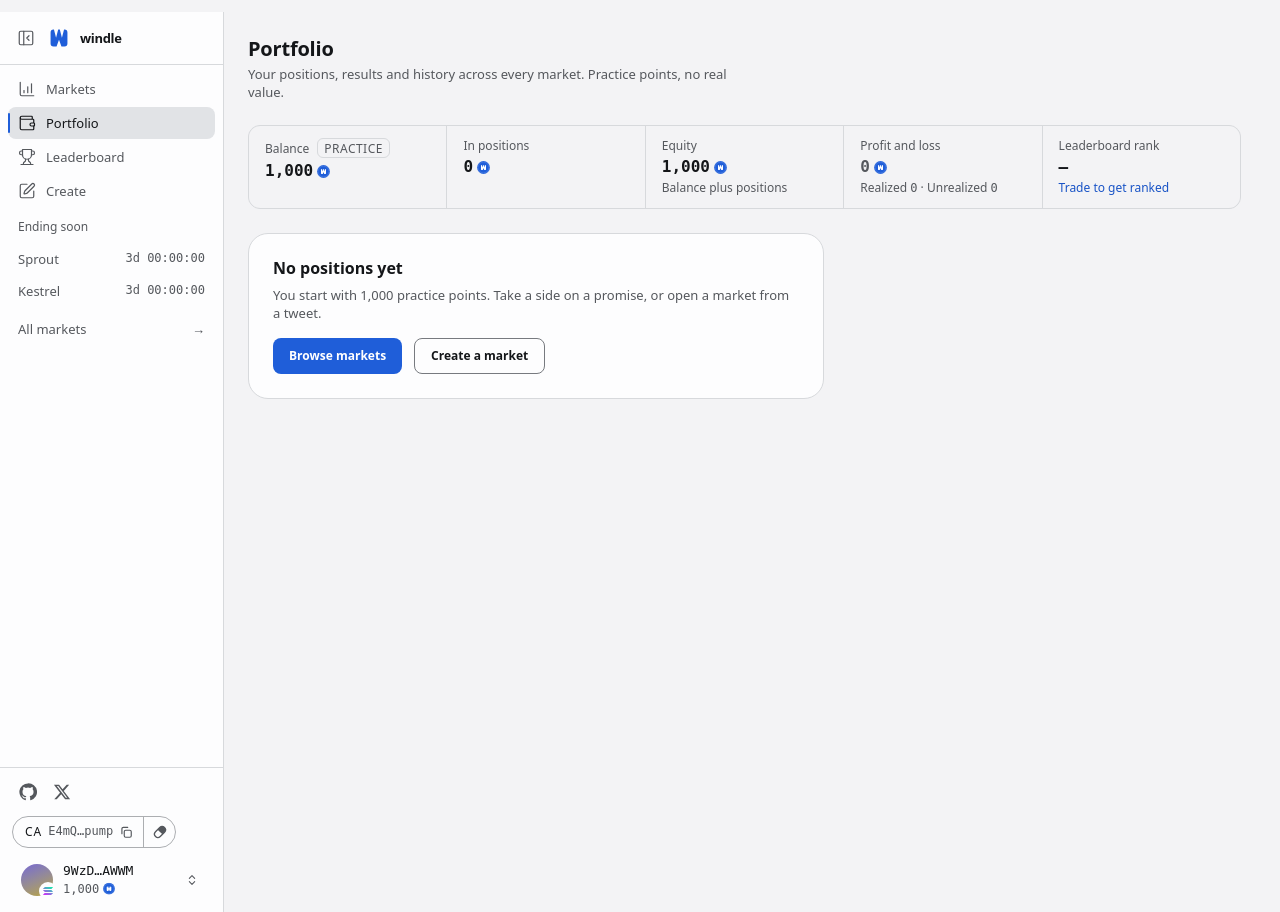
Test: shell and pages › navigates between Portfolio, Create and Markets (aria-current follows)
This screenshot has width=1280, height=912.
expect the heading "Portfolio" is shown: met, box [248, 35, 334, 62]
What coordinates should you click on to do the following:
click the link "Create"
I would click on:
 (52, 191)
Its box is [18, 182, 86, 200].
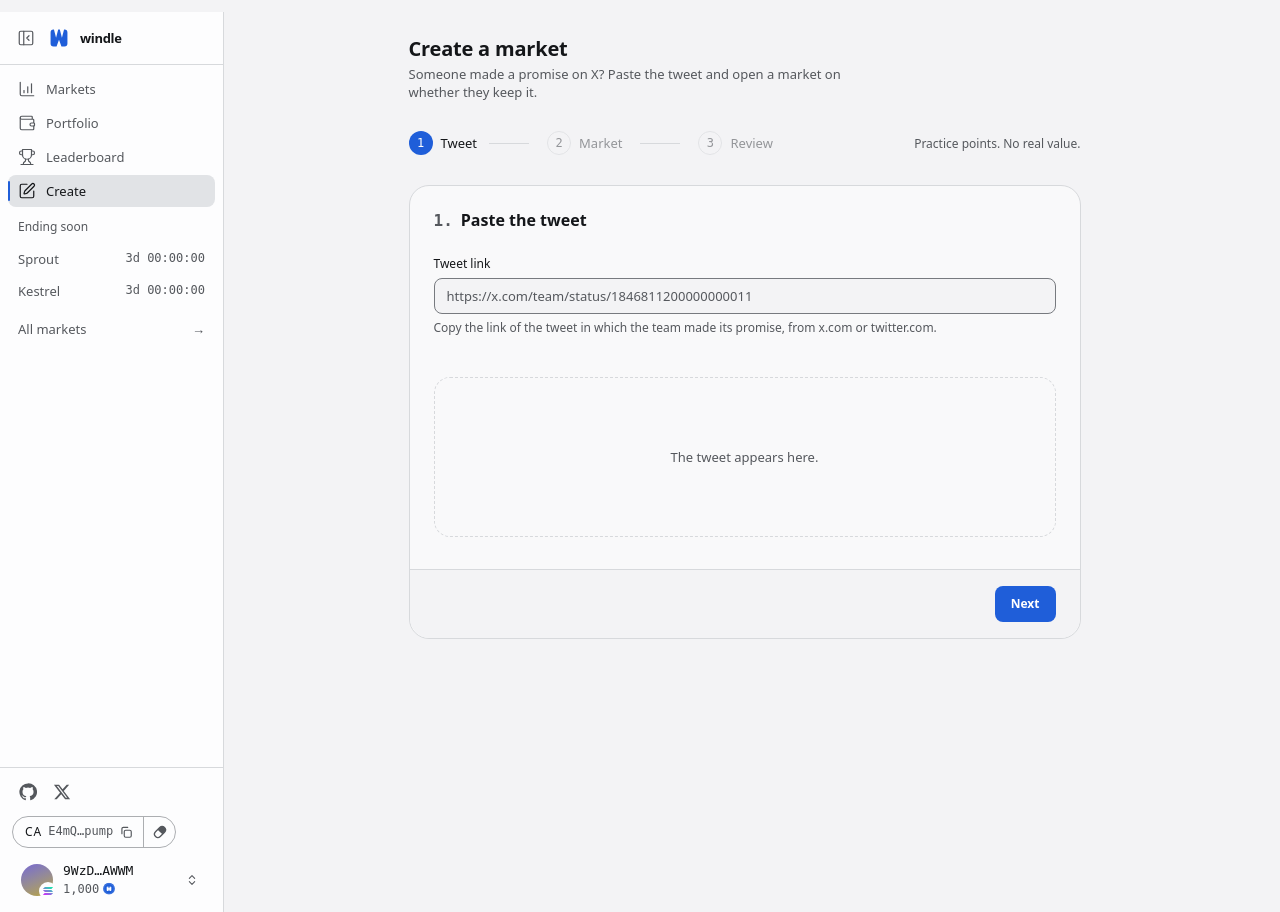
expect the heading "Create a market" is shown: met, box [408, 35, 568, 62]
What coordinates should you click on to do the following:
click the link "Markets"
I would click on:
 (57, 89)
Its box is [18, 80, 96, 98].
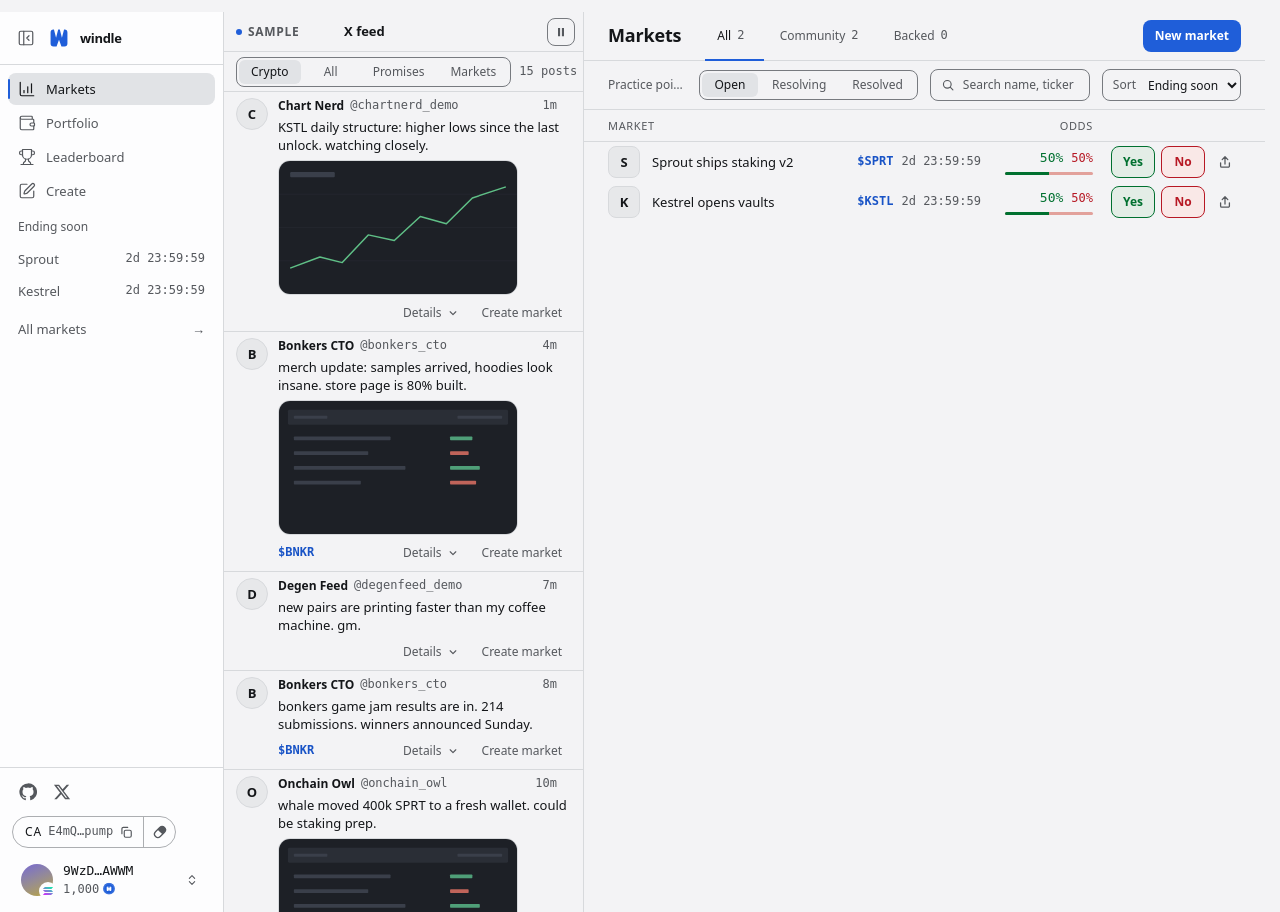
expect the heading "Markets" is shown: met, box [608, 16, 681, 56]
